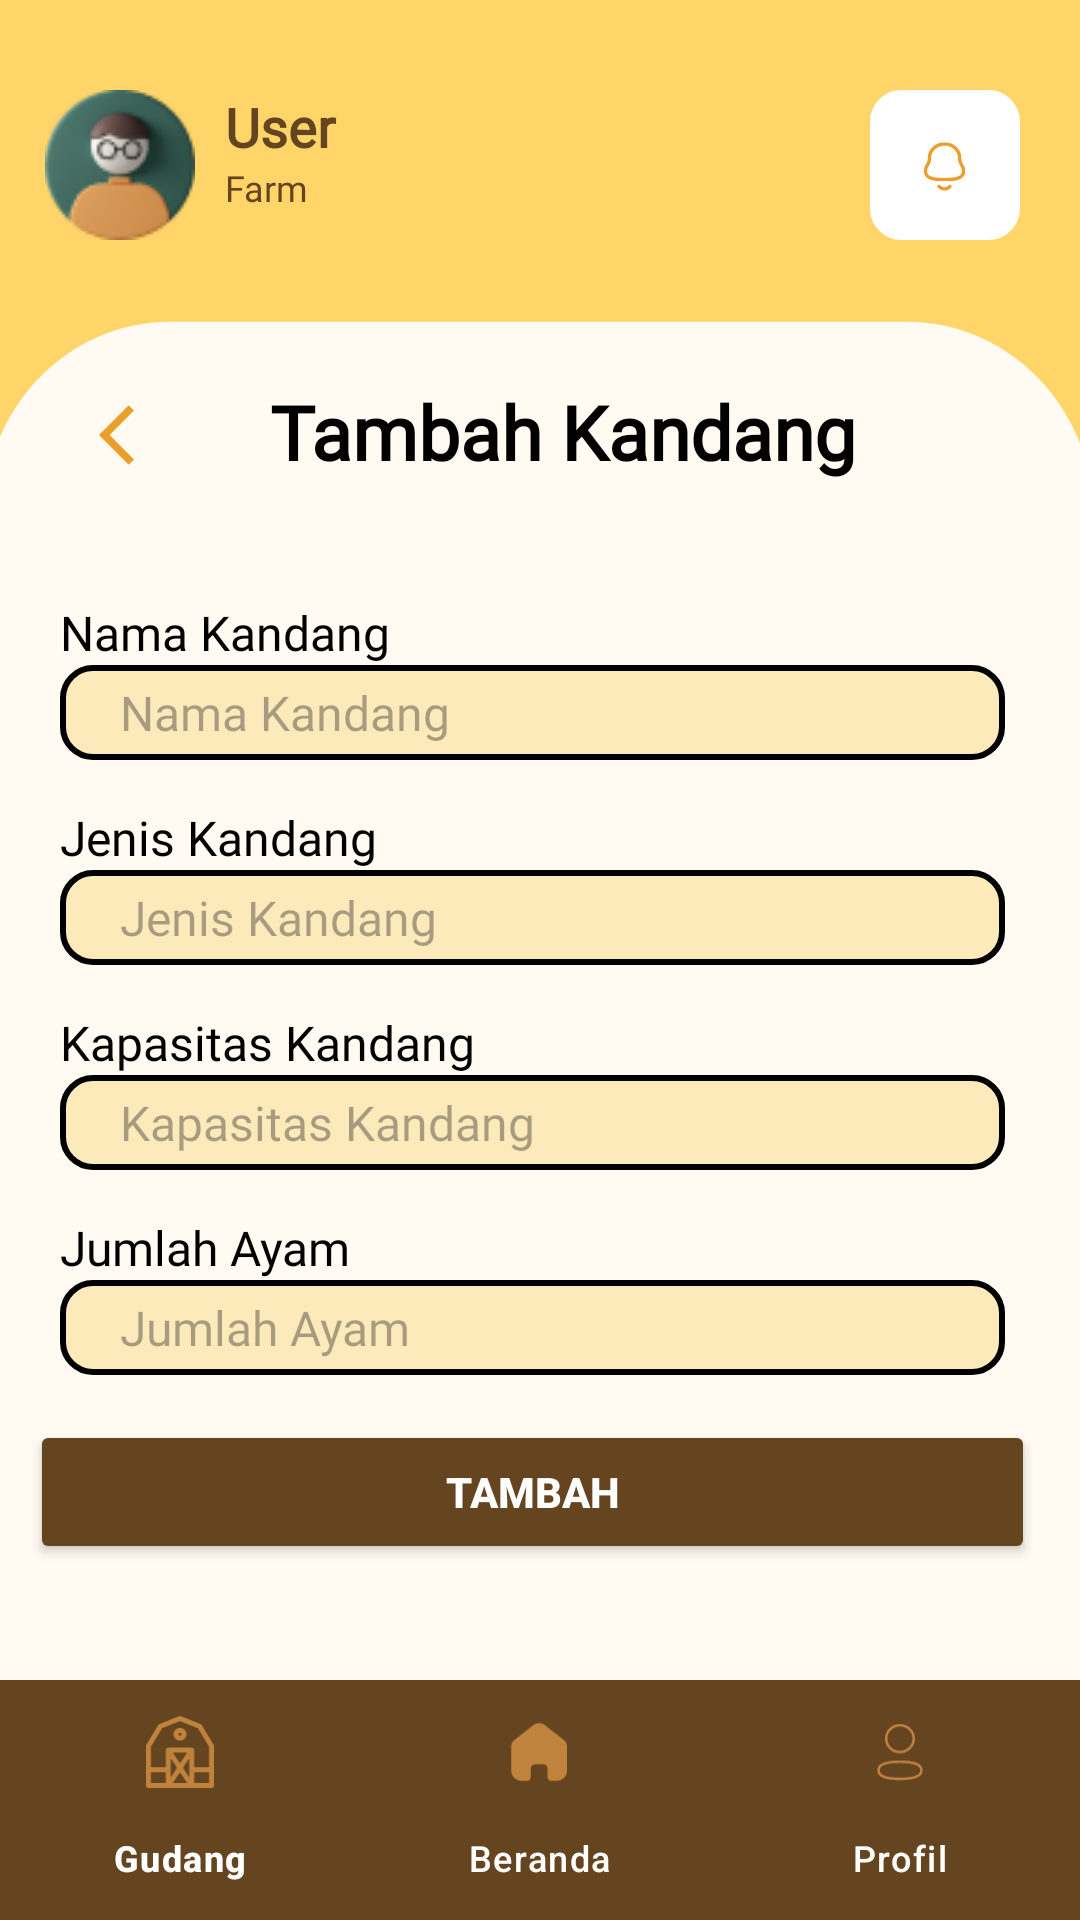

Locate icon controls on the screen. Image size 1080*1920, boxes as (x1, y1, x2, y2).
bell: (870, 90, 1020, 240)
profile pic: (45, 90, 195, 240)
